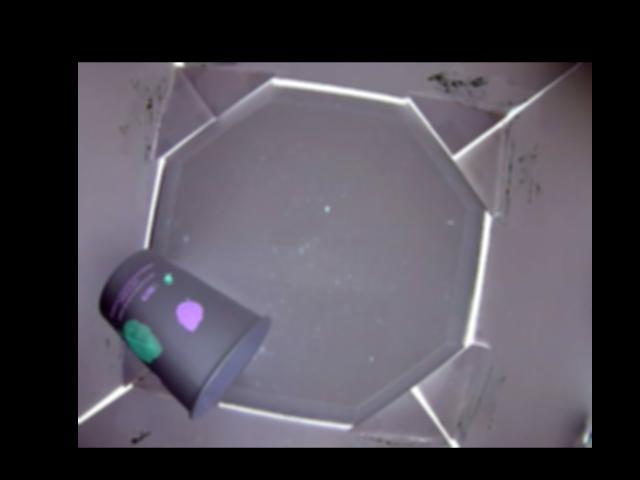Cup: (95, 246, 272, 419)
